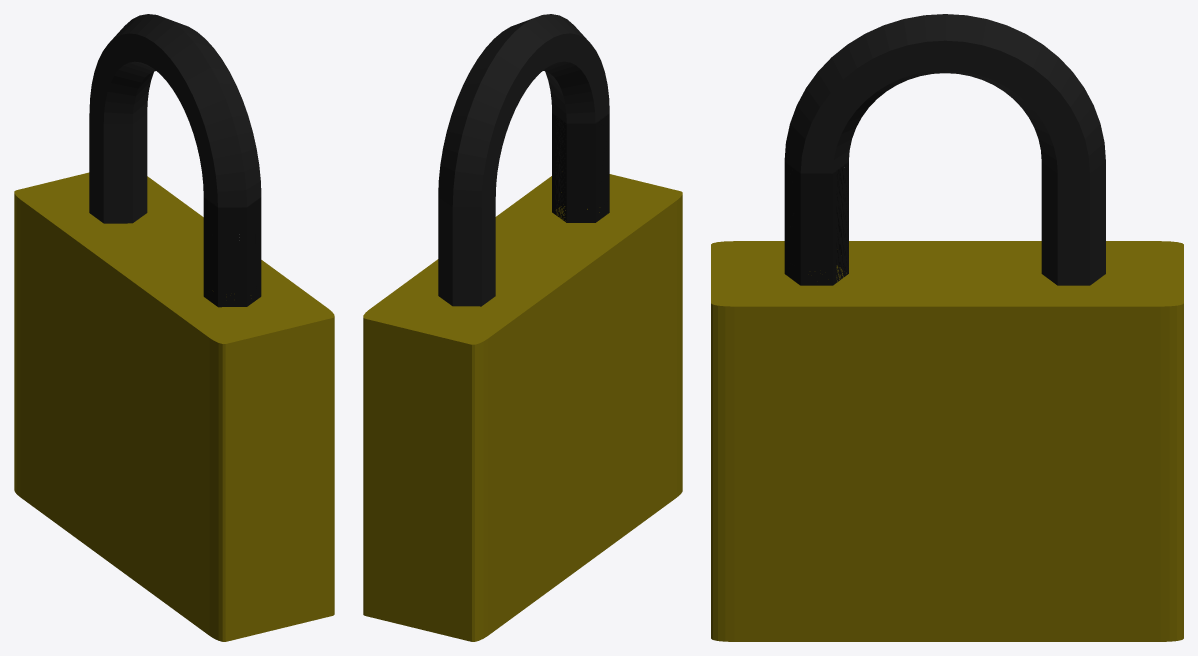
Rendered from padlockserrure.fbx.
3 views of the same model, side by side, from view 1: azimuth 30°, elevation 25°; view 2: azimuth 150°, elevation 25°; view 3: azimuth 270°, elevation 25° (orthographic). The views are drawn at different scales.
Parts seen in each view (by area): view 1: Corps, Ancre; view 2: Corps, Ancre; view 3: Corps, Ancre.
Part boxes in pixels (x1,y1,x2,y2): Corps: (14, 172, 334, 641); Ancre: (89, 14, 261, 307); Corps: (363, 174, 682, 641); Ancre: (438, 14, 609, 306); Corps: (711, 241, 1183, 641); Ancre: (784, 14, 1105, 285).
Size of the model in its own units: 12.91 by 54.71 by 39.38.
Materials: 2 (2 with a texture image).
